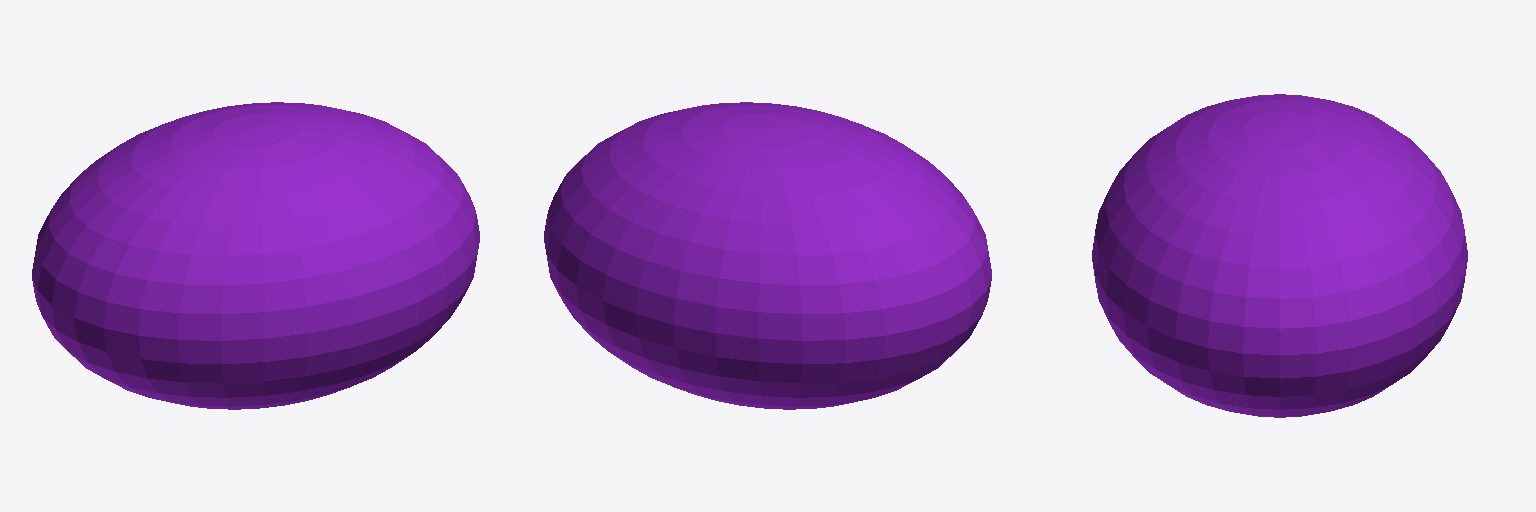
File: gem_type_5.obj
The picture shows the model from 3 angles: view 1: azimuth 30°, elevation 25°; view 2: azimuth 150°, elevation 25°; view 3: azimuth 270°, elevation 25°; orthographic projection.
Parts seen in each view (by area): view 1: gem_type_5; view 2: gem_type_5; view 3: gem_type_5.
Part boxes in pixels (x1,y1,x2,y2): gem_type_5: (32,102,479,409); gem_type_5: (544,102,991,409); gem_type_5: (1092,94,1467,417).
Bounding box in the file's own units: 1 × 0.6 × 0.8.